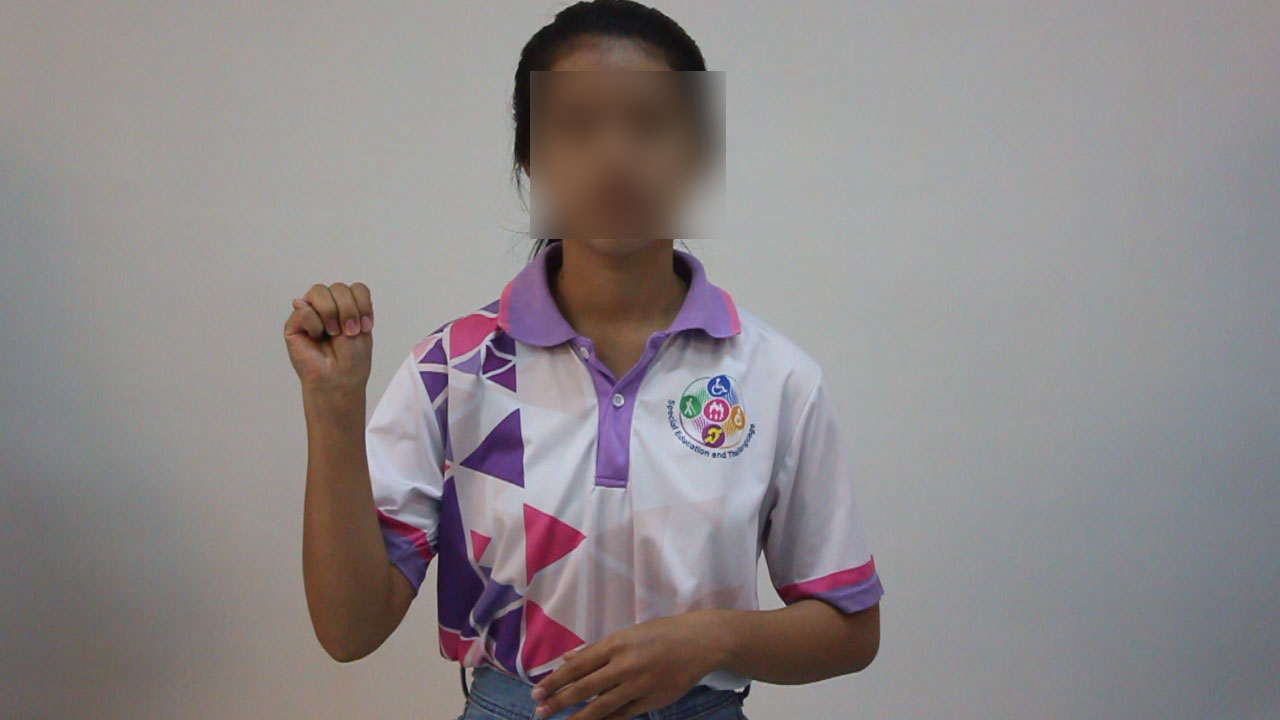mor: (273, 260, 388, 418)
